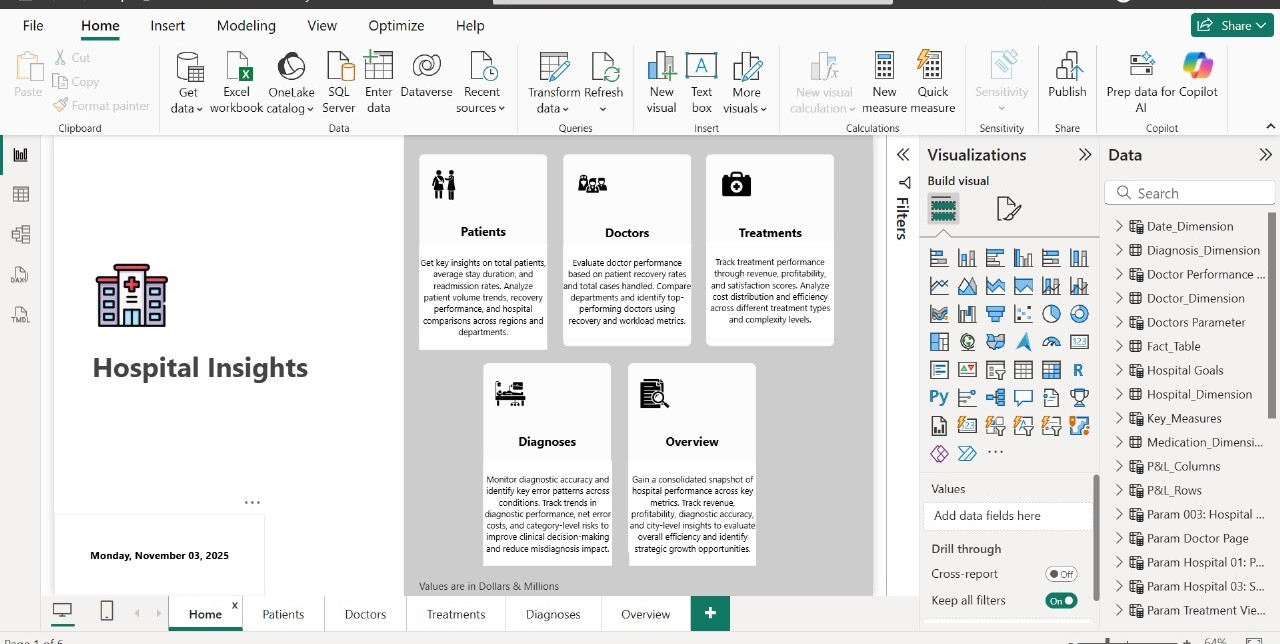

The dashboard page shown, as its layout file describes it:
{"tool":"powerbi","page":{"name":"Home","canvas":[1280,720],"ordinal":0},"visuals":[{"type":"actionButton","box":[896.7,356.7,200,300],"z":0},{"type":"shape","box":[0,0,546.7,720],"z":1000},{"type":"shape","box":[60,330,426.7,60],"z":2000},{"type":"image","box":[60,170,123.3,160],"z":3000},{"type":"actionButton","box":[570,30,200,300],"z":4000},{"type":"image","box":[910,375,58.3,56.7],"z":5000},{"type":"actionButton","box":[795,30,200,300],"z":6000},{"type":"image","box":[811.7,48.3,60,55],"z":7000},{"type":"actionButton","box":[1018.3,30,200,300],"z":8000},{"type":"image","box":[1036.7,48.3,60,55],"z":9000},{"type":"actionButton","box":[670,356.7,200,300],"z":10000},{"type":"image","box":[683.3,375,60,56.7],"z":11000},{"type":"image","box":[578.3,48.3,61.7,58.3],"z":12000},{"type":"shape","box":[570,170,200,165],"z":13000},{"type":"shape","box":[795,170,200,146.7],"z":14000},{"type":"shape","box":[1018.3,166.7,200,150],"z":15000},{"type":"shape","box":[670,510,201.7,163.3],"z":16000},{"type":"shape","box":[898.3,510,198.3,163.3],"z":17000},{"type":"shape","box":[0,591.7,330,128.3],"z":18000},{"type":"shape","box":[570,688.3,225,31.7],"z":19000}]}

Visuals, with their boxes on the page's 1280x720 design canvas (x1, y1, x2, y2). These are canvas units, not pixel positions in the 1280x644 screenshot, which may show the page scaled, cropped or inside an application window:
actionButton: Rect(897, 357, 1097, 657)
shape: Rect(0, 0, 547, 720)
shape: Rect(60, 330, 487, 390)
image: Rect(60, 170, 183, 330)
actionButton: Rect(570, 30, 770, 330)
image: Rect(910, 375, 968, 432)
actionButton: Rect(795, 30, 995, 330)
image: Rect(812, 48, 872, 103)
actionButton: Rect(1018, 30, 1218, 330)
image: Rect(1037, 48, 1097, 103)
actionButton: Rect(670, 357, 870, 657)
image: Rect(683, 375, 743, 432)
image: Rect(578, 48, 640, 107)
shape: Rect(570, 170, 770, 335)
shape: Rect(795, 170, 995, 317)
shape: Rect(1018, 167, 1218, 317)
shape: Rect(670, 510, 872, 673)
shape: Rect(898, 510, 1097, 673)
shape: Rect(0, 592, 330, 720)
shape: Rect(570, 688, 795, 720)
